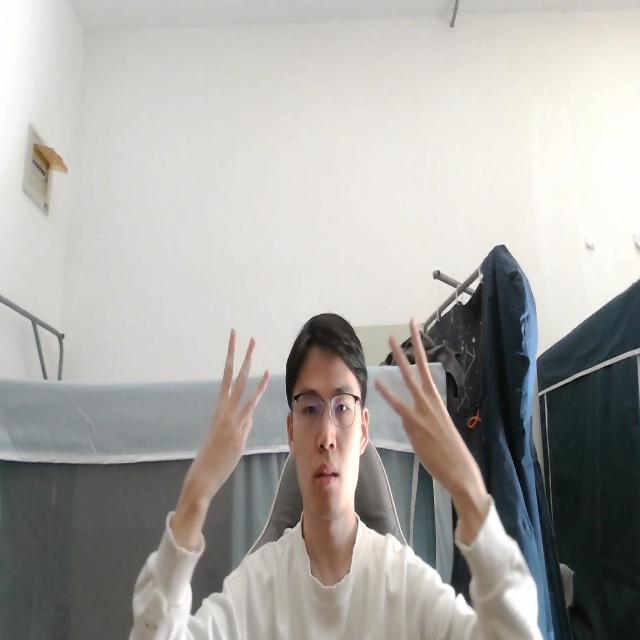three: (368, 316, 474, 498), (188, 321, 272, 497)
